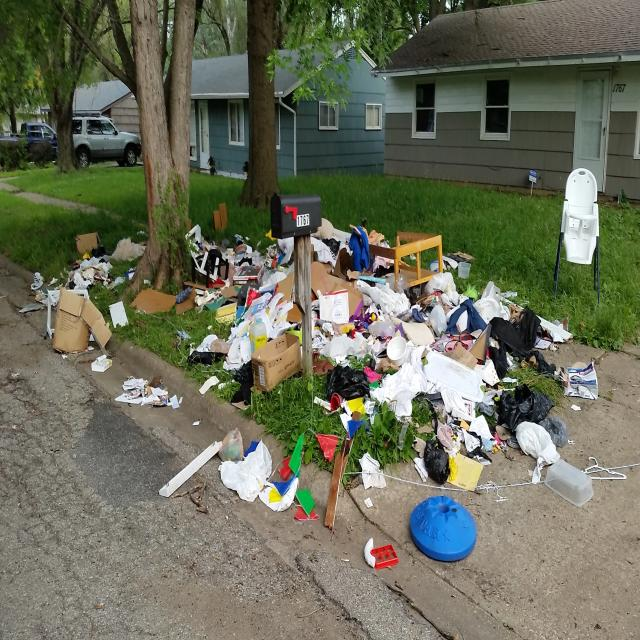House: (379, 0, 640, 202), (175, 35, 388, 180), (62, 80, 149, 162)
